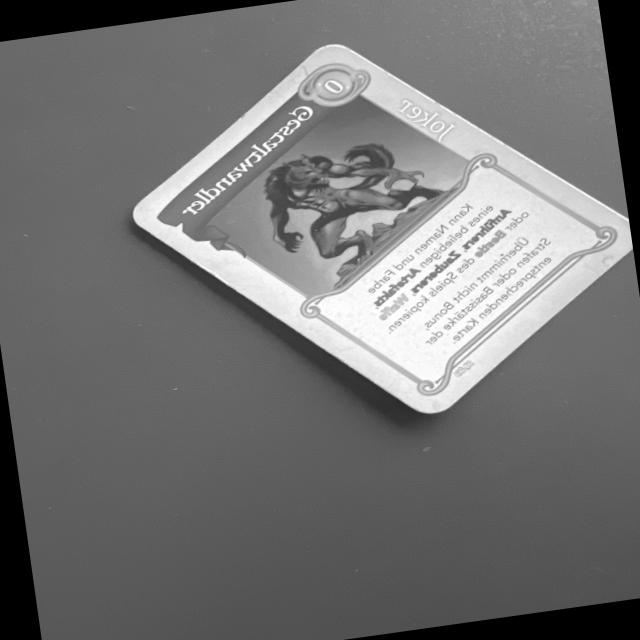Shapeshifter: (124, 37, 634, 421)
